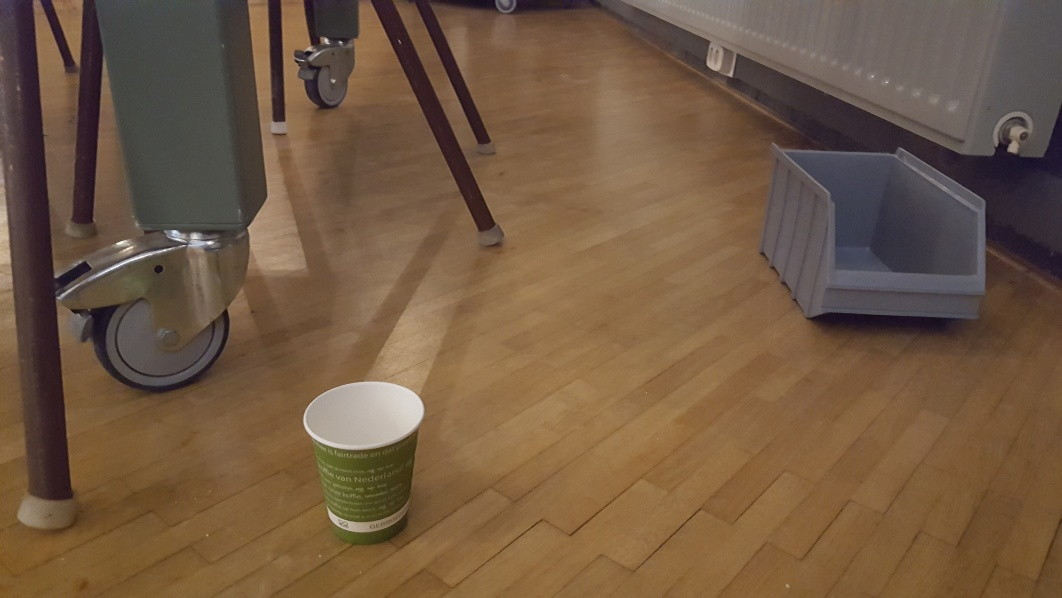cup: (300, 379, 427, 539)
tray: (759, 142, 987, 328)
